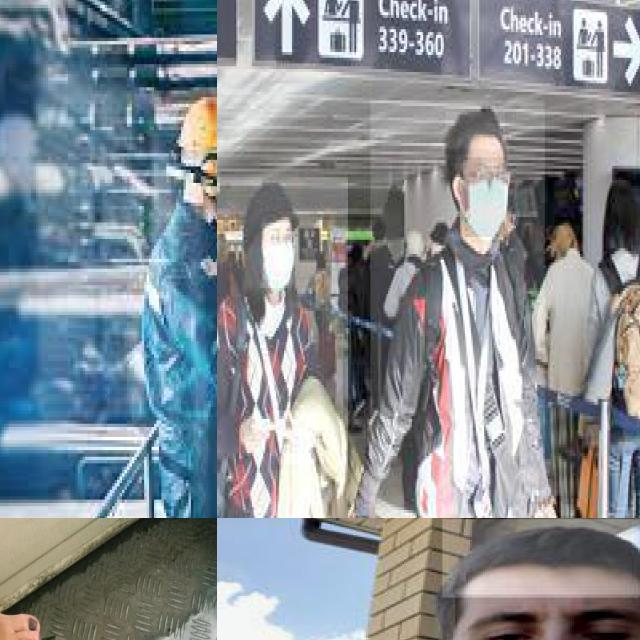Ear-protection: (196, 150, 217, 196)
No_Glasses: (458, 587, 640, 640)
face_mask: (465, 157, 506, 240), (262, 223, 294, 291)
face_nomask: (455, 594, 640, 640)
hand_noglove: (279, 410, 318, 468), (239, 410, 273, 464), (536, 495, 562, 518)
head_helmet: (173, 87, 217, 156)
head_nohelmet: (442, 519, 640, 597), (252, 180, 305, 226), (446, 112, 506, 152)
person: (370, 100, 546, 518), (217, 518, 640, 640), (217, 177, 349, 518), (138, 109, 217, 518)
